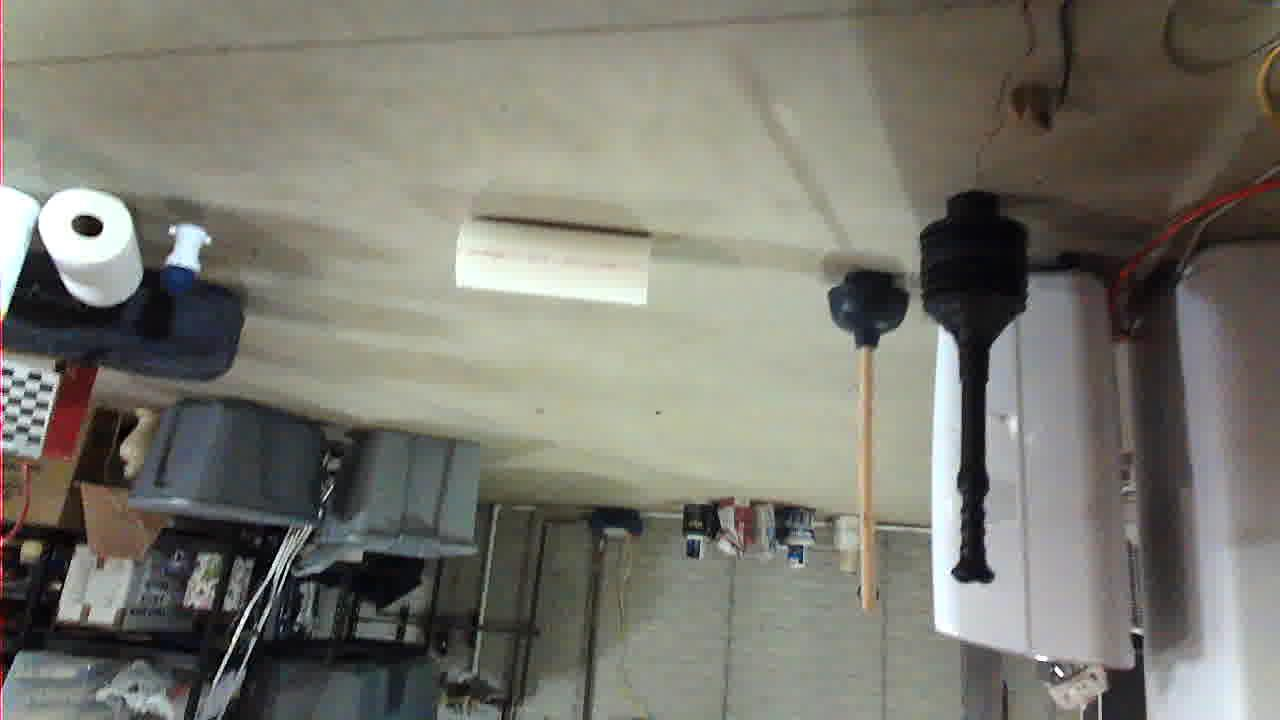coral: (632, 413, 825, 506)
